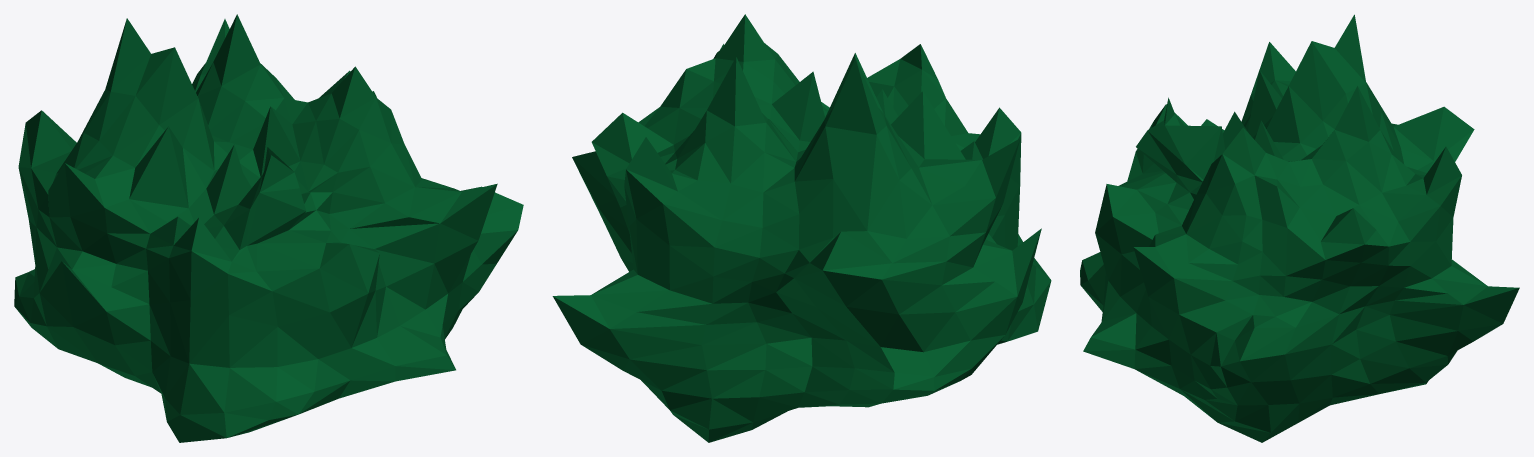
Rendered from mossblob.dae.
The picture shows the model from 3 angles, left to right: view 1: azimuth 30°, elevation 25°; view 2: azimuth 150°, elevation 25°; view 3: azimuth 270°, elevation 25°; orthographic projection. The views are drawn at different scales.
Parts seen in each view (by area): view 1: Cube_001; view 2: Cube_001; view 3: Cube_001.
Part boxes in pixels (x1,y1,x2,y2): Cube_001: (14,14,523,442); Cube_001: (552,14,1051,442); Cube_001: (1080,14,1519,442).
Size of the model in its own units: 9.37 by 8.69 by 7.28.
